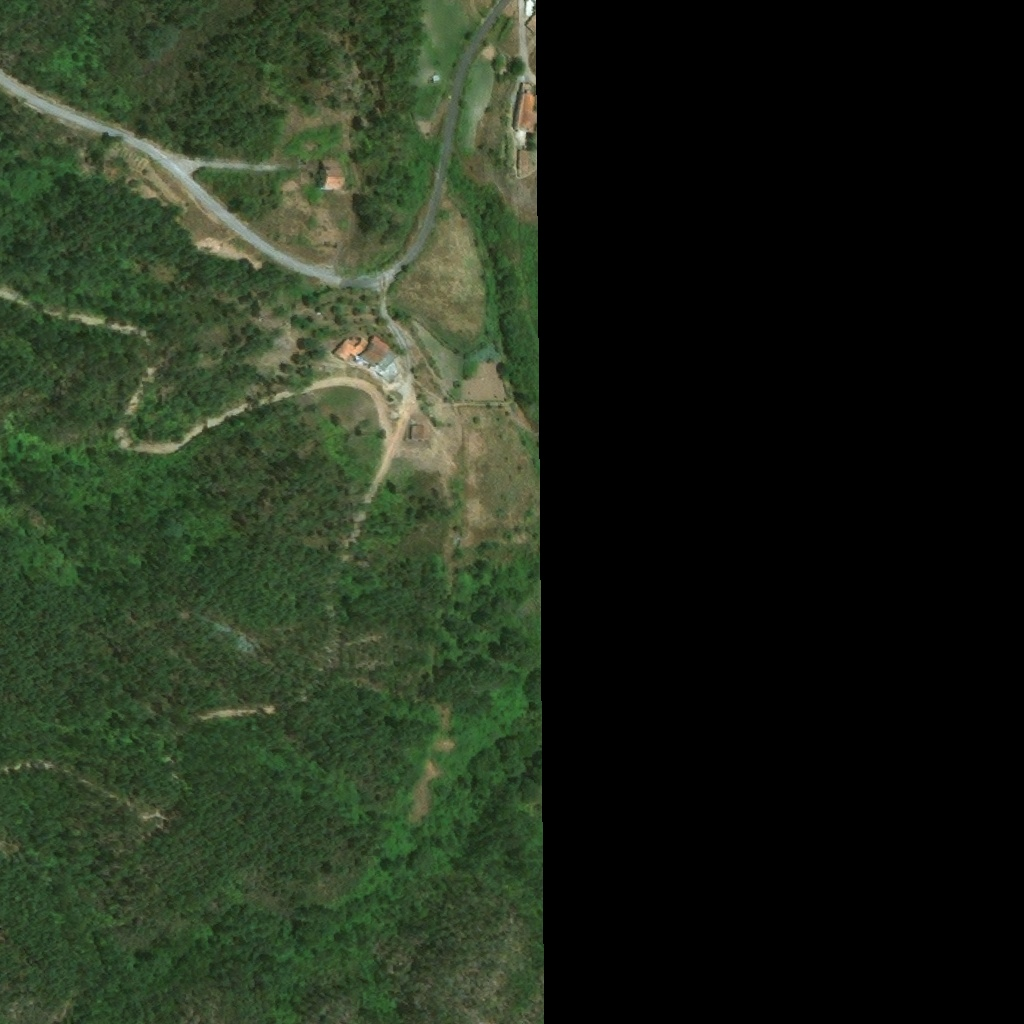0 no-damage: (352, 336, 396, 378), (511, 92, 538, 134), (317, 159, 345, 191), (331, 340, 367, 363), (519, 151, 529, 172), (409, 426, 424, 440), (430, 74, 440, 84)
4 un-classified: (524, 13, 541, 35), (532, 0, 541, 5)
